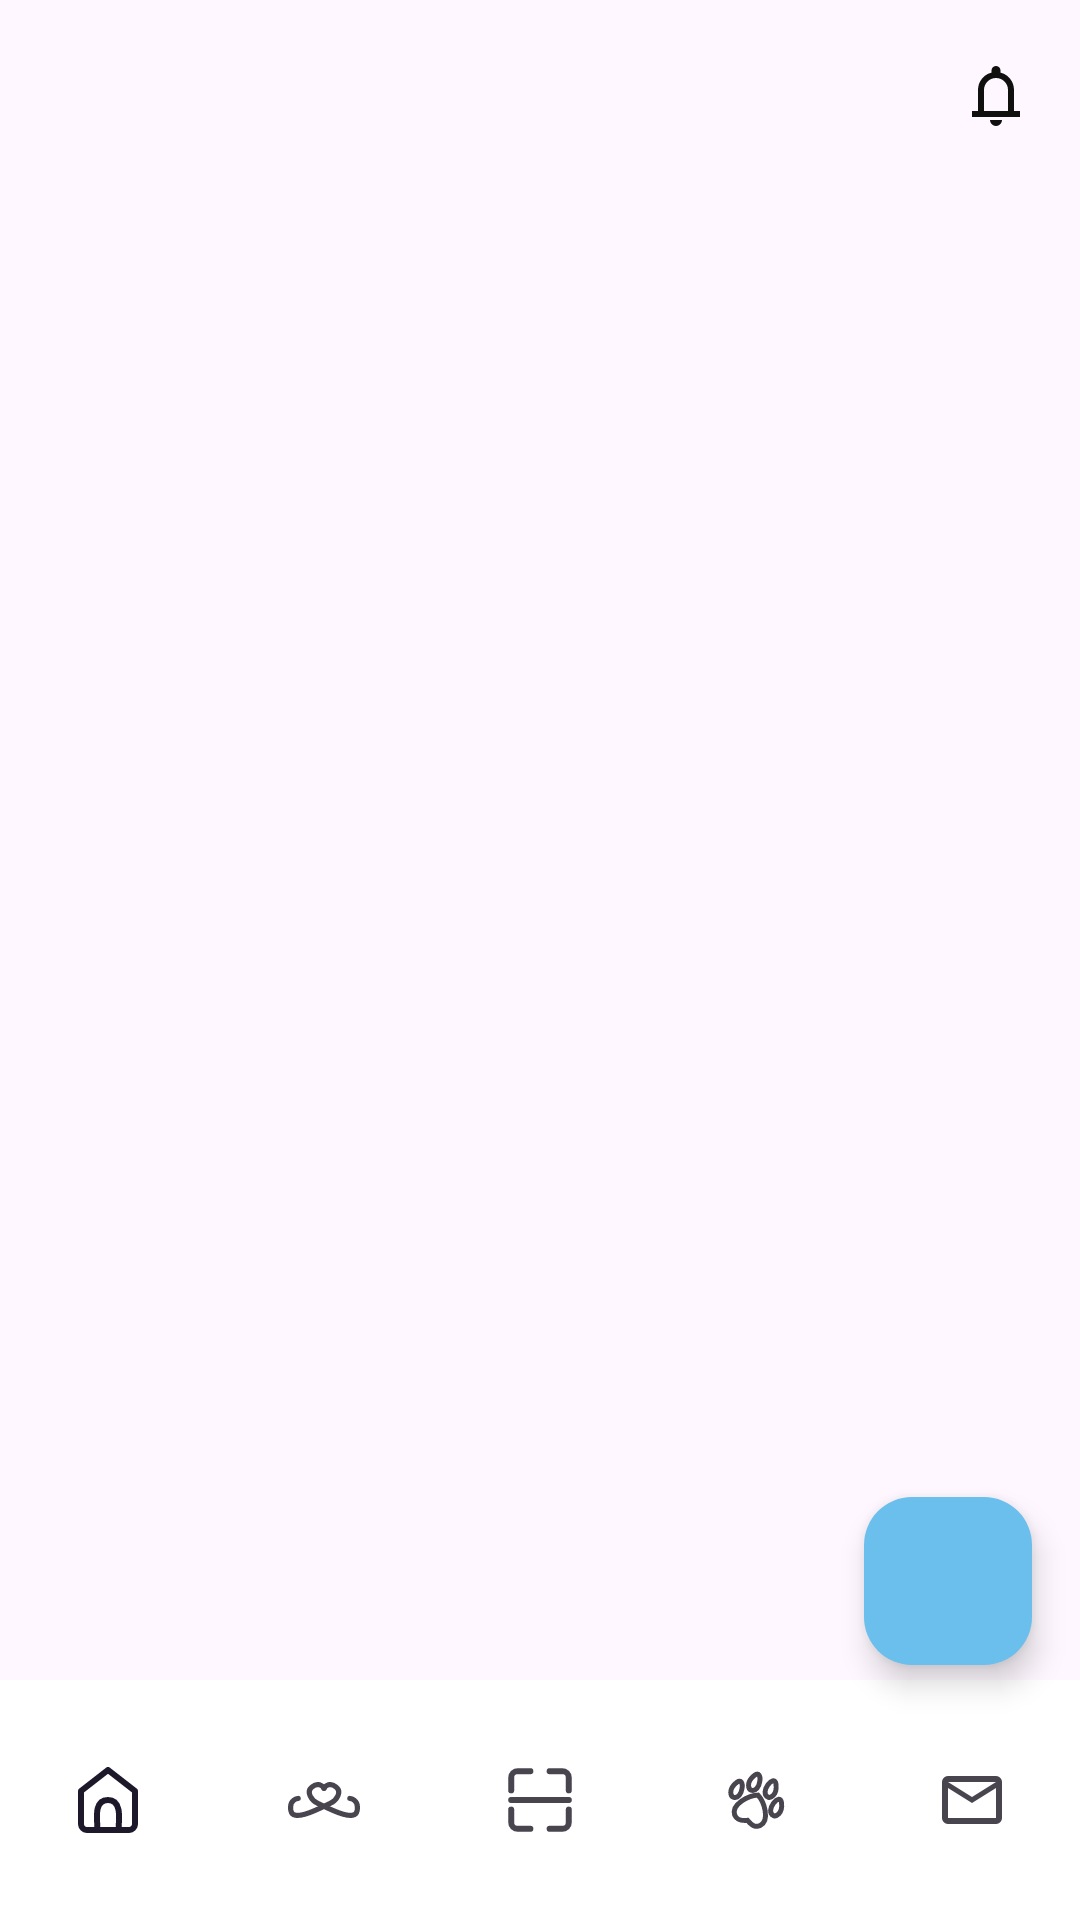

Locate icon controls on the screen. Image size 1080×1920, boxes as rect(x1, y1, x2, y2).
Notifikasi: rect(972, 66, 1020, 126)
